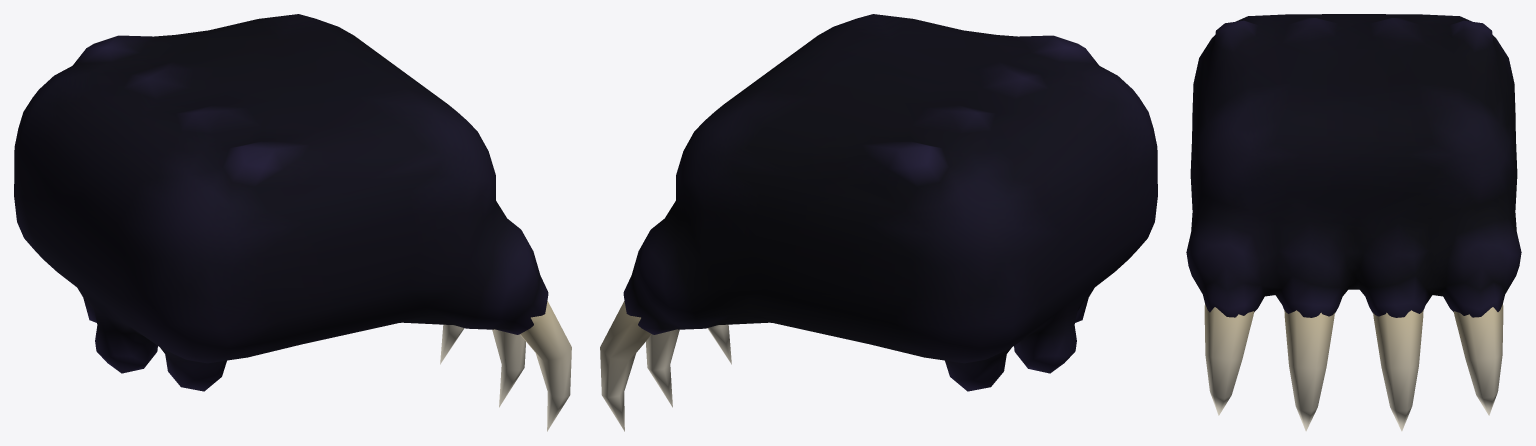
File: hand.glb
3 views of the same model, side by side, from view 1: azimuth 30°, elevation 25°; view 2: azimuth 150°, elevation 25°; view 3: azimuth 270°, elevation 25° (orthographic). The views are drawn at different scales.
Parts seen in each view (by area): view 1: Goo, Teeth; view 2: Goo, Teeth; view 3: Goo, Teeth.
Boxes of the visible parts, box(x1,y1,x2,y2) form: Goo: box(14, 14, 548, 391); Teeth: box(440, 301, 571, 431); Goo: box(623, 14, 1157, 391); Teeth: box(600, 301, 731, 431); Goo: box(1186, 14, 1521, 317); Teeth: box(1204, 304, 1503, 431).
Bounding box in the file's own units: 0.4548 × 0.3812 × 0.3917.
